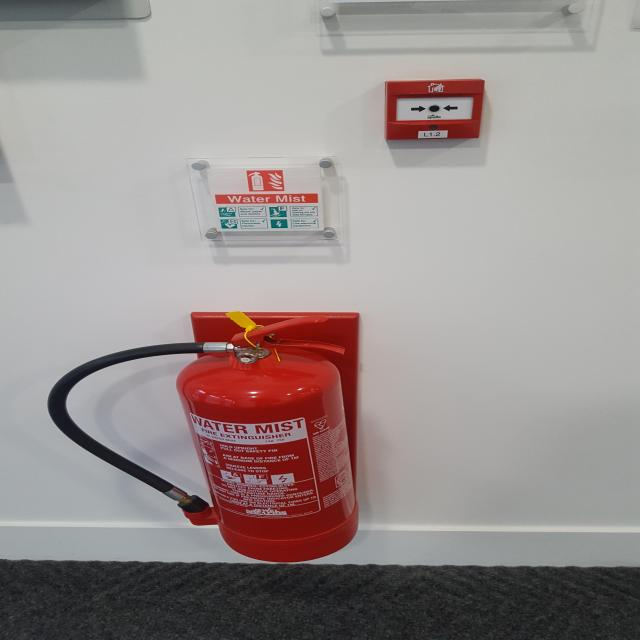fire_extinguisher: (42, 310, 370, 563)
